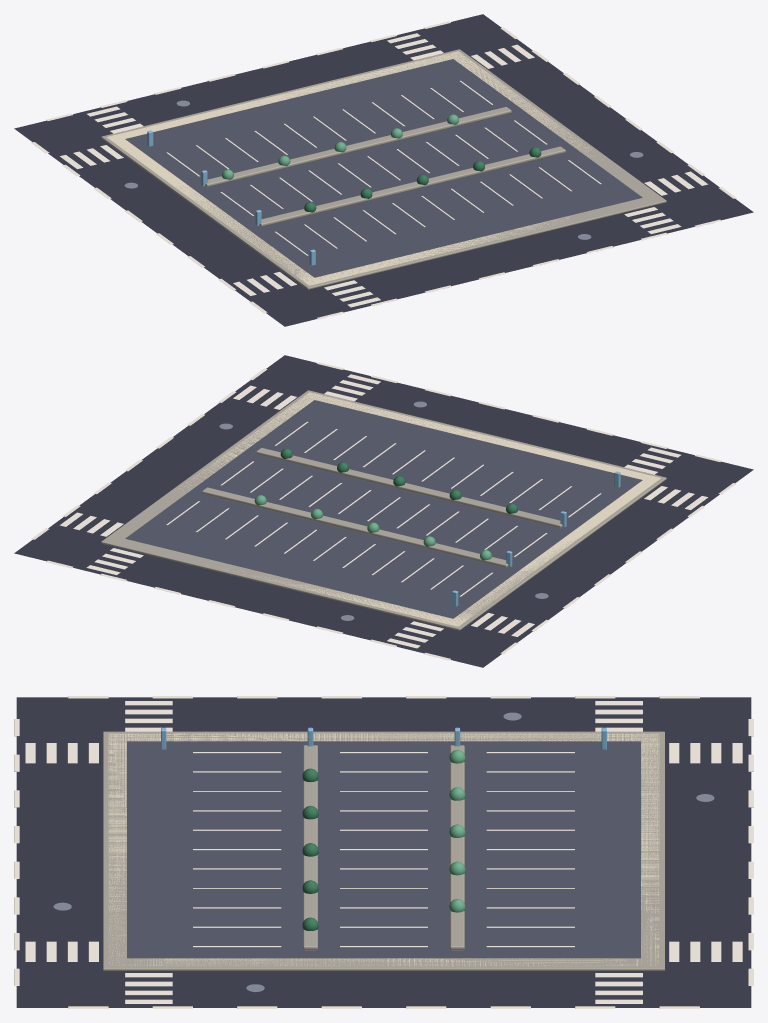
Rendered from tile_parking.glb.
3 views of the same model, one above another, from view 1: azimuth 30°, elevation 25°; view 2: azimuth 150°, elevation 25°; view 3: azimuth 270°, elevation 25° (orthographic). The views are drawn at different scales.
Visible parts, largest first — view 1: tile_parking; view 2: tile_parking; view 3: tile_parking.
Boxes of the visible parts, x1,y1,x2,y2 form: tile_parking: (14, 14, 753, 326); tile_parking: (14, 355, 753, 667); tile_parking: (14, 696, 753, 1008).
Size of the model in its own units: 40.3 by 1.37 by 40.3.
Materials: 1 (1 with a texture image).
